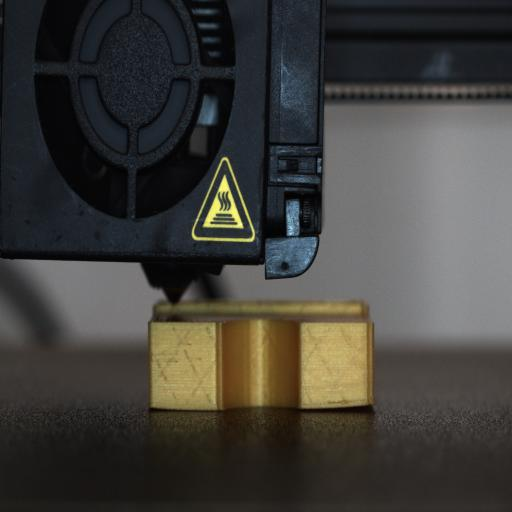warp: (328, 386, 376, 416), (147, 396, 179, 416)
